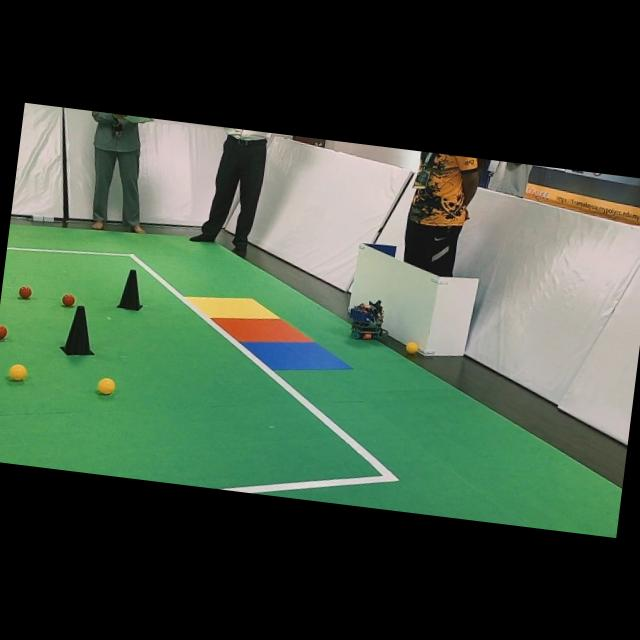ball: (242, 341, 351, 370), (9, 363, 27, 381), (97, 377, 115, 394), (62, 293, 76, 307), (18, 285, 32, 299), (405, 341, 418, 354), (0, 324, 8, 339)
goal: (213, 317, 313, 342), (186, 297, 279, 318)
